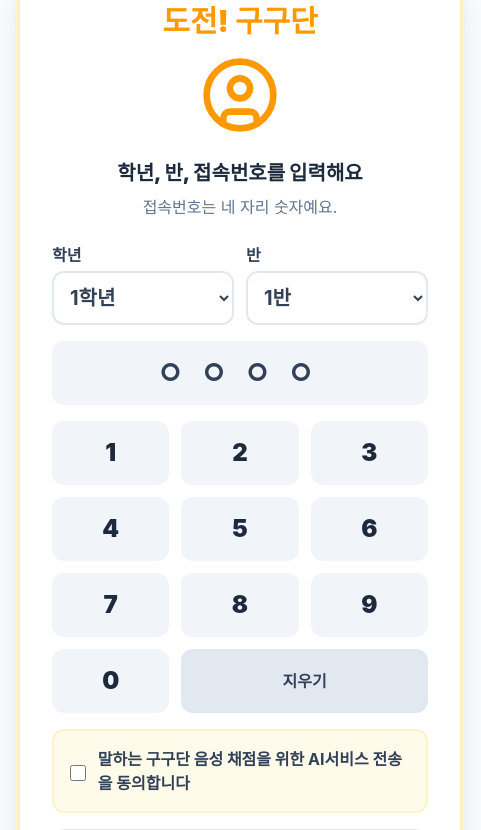
it: LoginScreen › does not submit a PIN until voice-use consent is selected
The image size is (481, 830).
Click the button "1".
click(111, 453)  # box [52, 421, 169, 485]
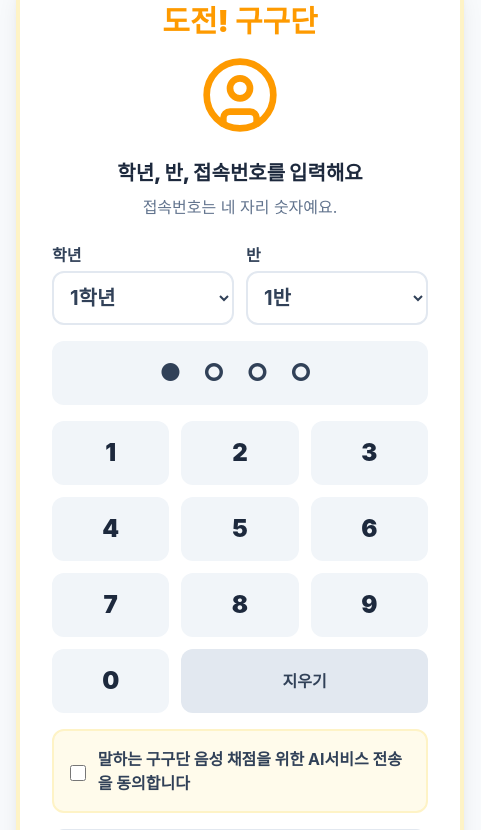
Click the button "2".
click(240, 453)  # box [181, 421, 299, 485]
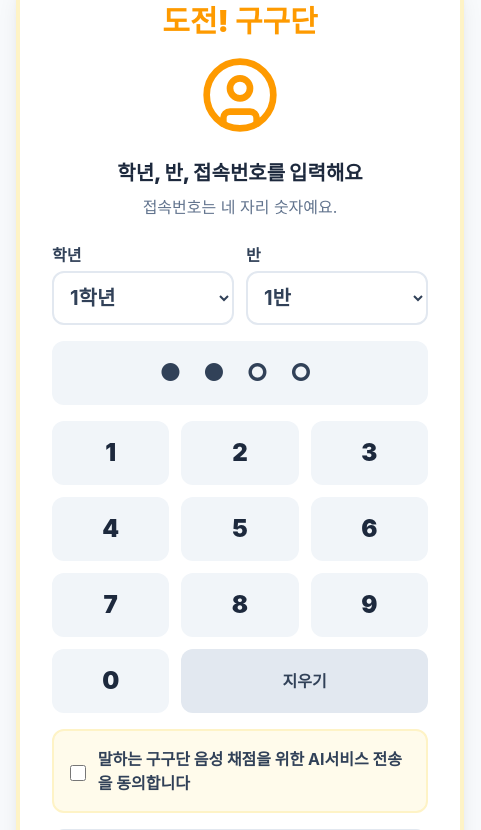
Click the button "3".
click(369, 453)  # box [311, 421, 428, 485]
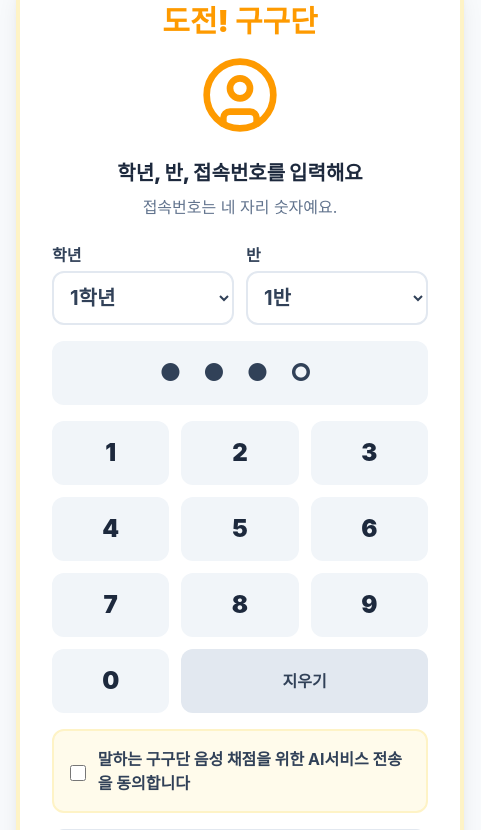
Click the button "4".
click(111, 529)  # box [52, 497, 169, 561]
(page scrolled)
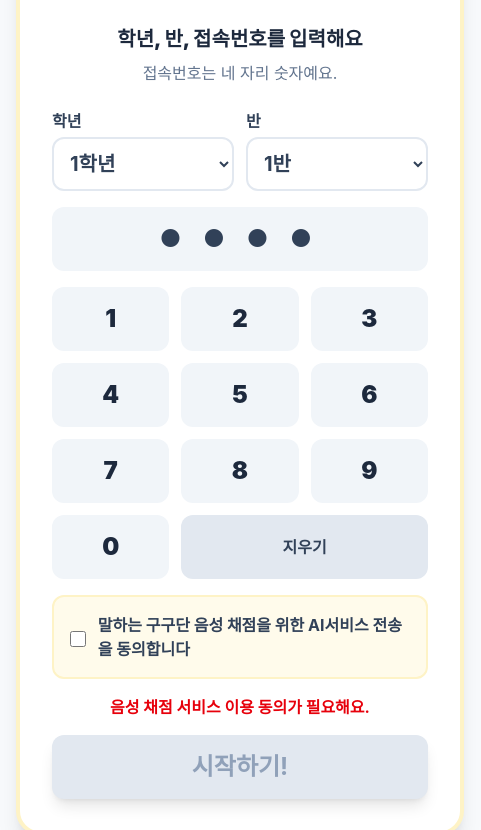
Expected: the text "음성 채점 서비스 이용 동의가 필요해요." is shown, [110, 697, 370, 717]
